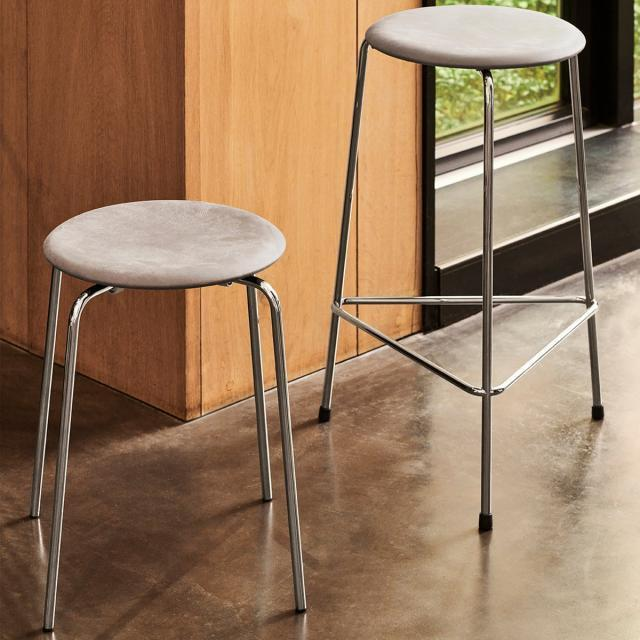chair: (318, 1, 608, 536), (29, 195, 314, 634)
